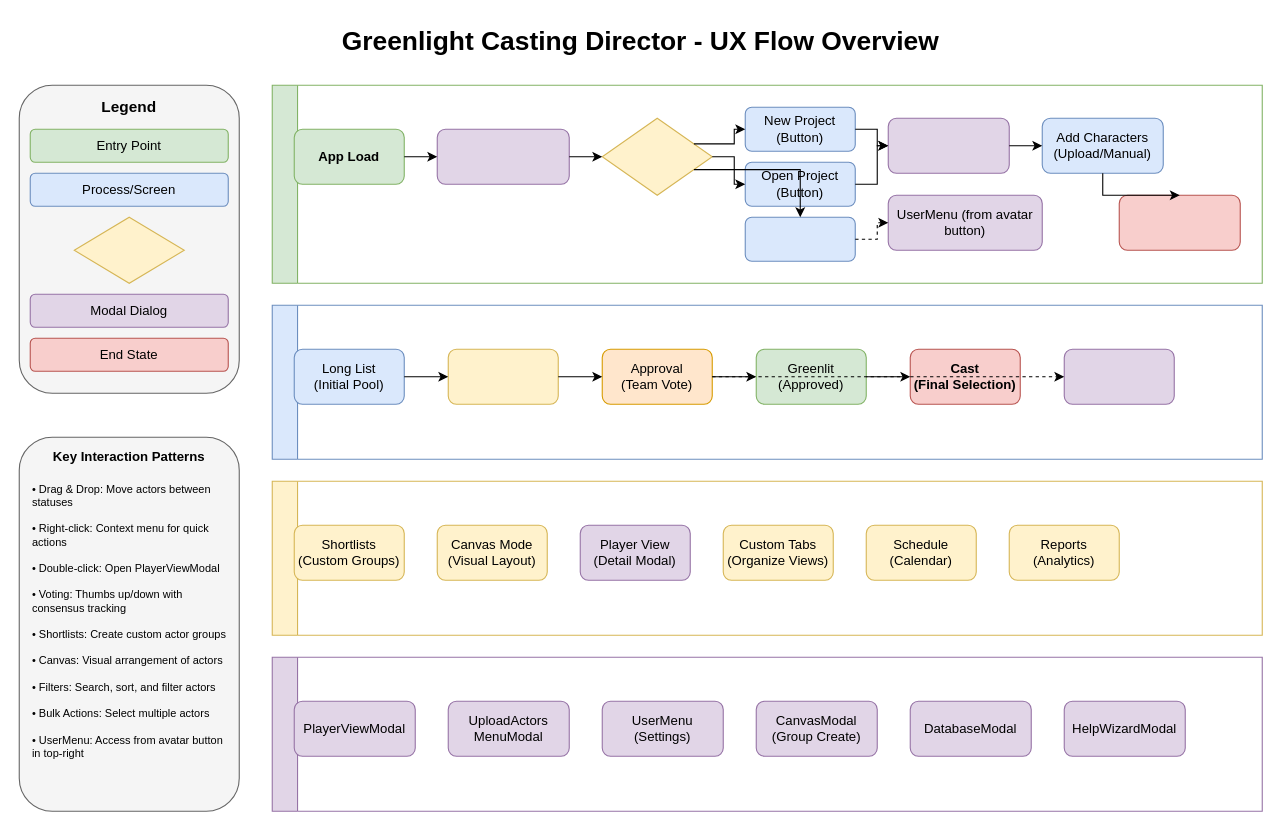
Some shapes in this 1282 by 831 pixel diagram are drawn without their labels. The shapes that lost their labels are listed below. From the top down, each one's box as (x1, y1, x2, y2) in pixels, then its label:
(436, 128, 569, 184): SplashScreenModal
(601, 117, 712, 195): User Choice?
(887, 117, 1009, 173): ProjectManager Modal
(271, 84, 1262, 283): 1. Entry & Project Setup
(744, 216, 855, 261): Database (Button)
(1118, 194, 1240, 250): Main Interface
(73, 216, 184, 283): Decision Point
(447, 348, 558, 404): Audition (Under Review)
(271, 304, 1262, 459): 2. Main Casting Workflow
(1063, 348, 1174, 404): Team Voting & Consensus
(271, 480, 1262, 635): 3. Alternative Workflows & Tools
(271, 656, 1262, 811): 4. Key Modal Interactions
